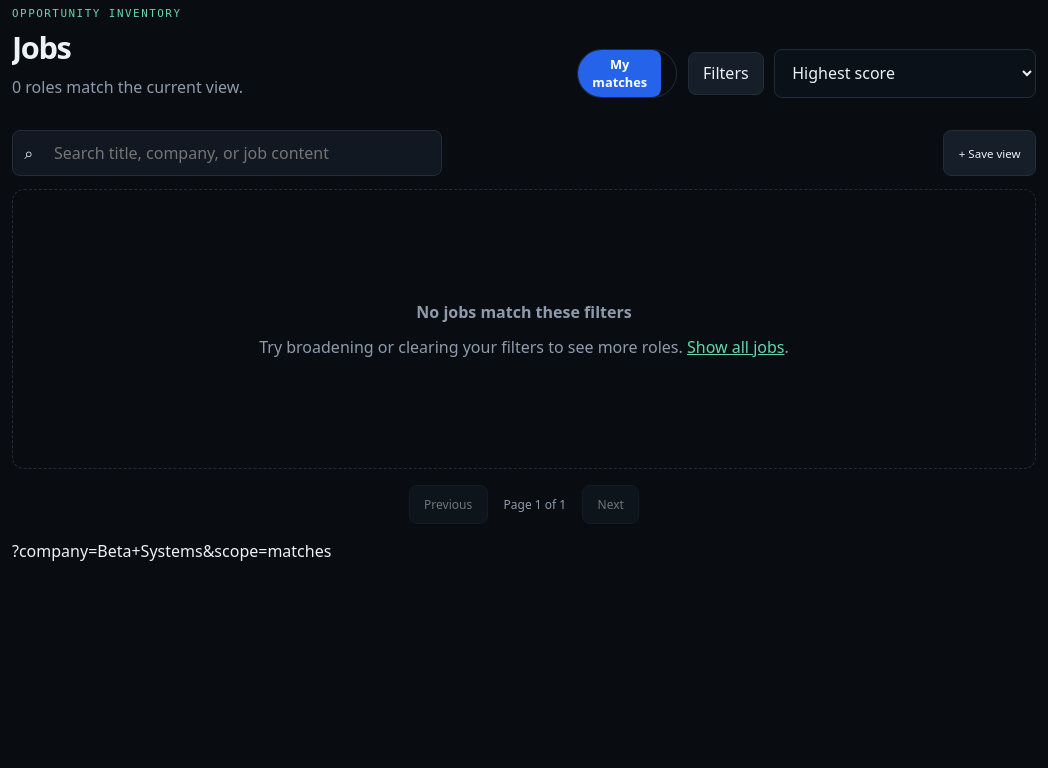
Scenario: dashboard UI › distinguishes filtered and unfiltered empty job results
Expected: the text "No jobs match these filters" is shown, [416, 301, 632, 323]
Click the link "Show all jobs" at (736, 347), box [687, 336, 784, 358]
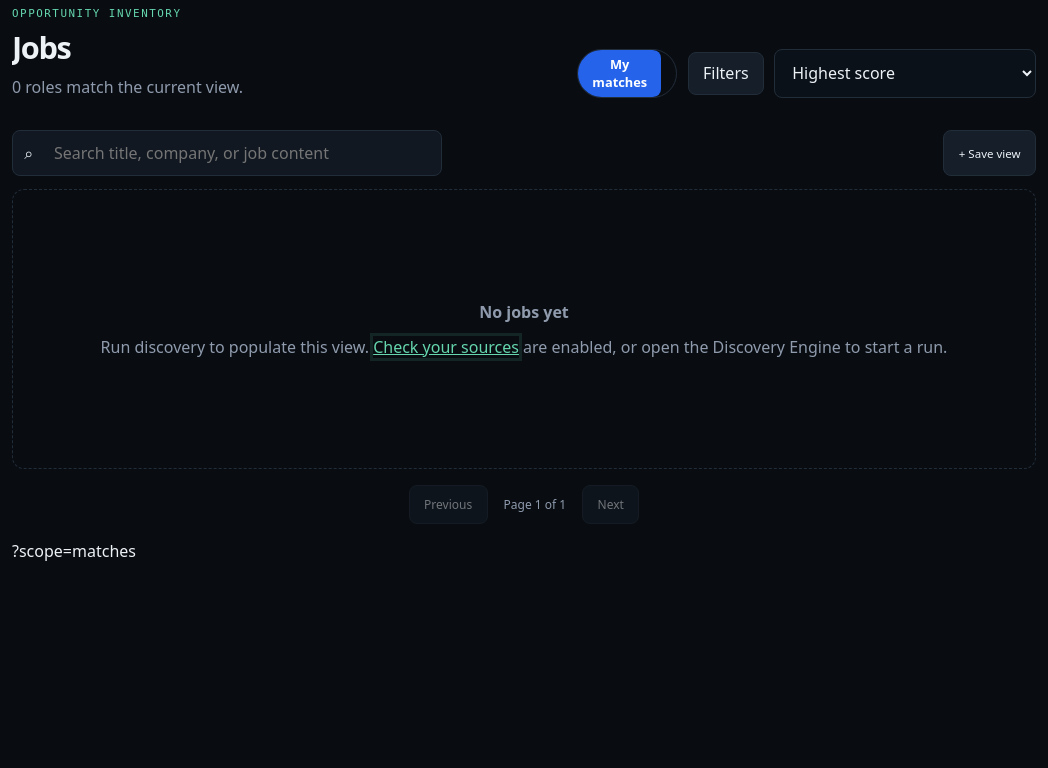
Result: the text with test id "location" no longer shows "company=" at [12, 540, 136, 562]
